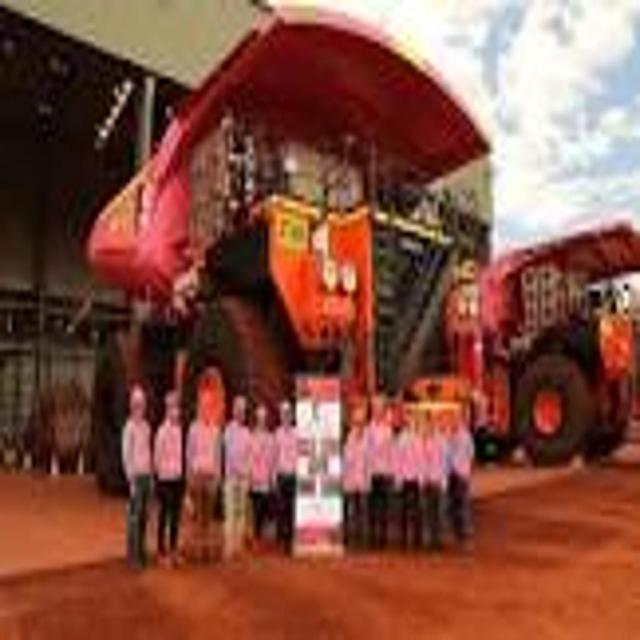dump_truck: (90, 0, 492, 409)
